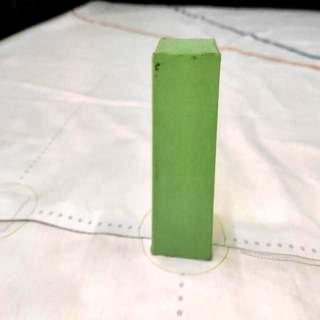greenbox: (150, 38, 222, 264)
